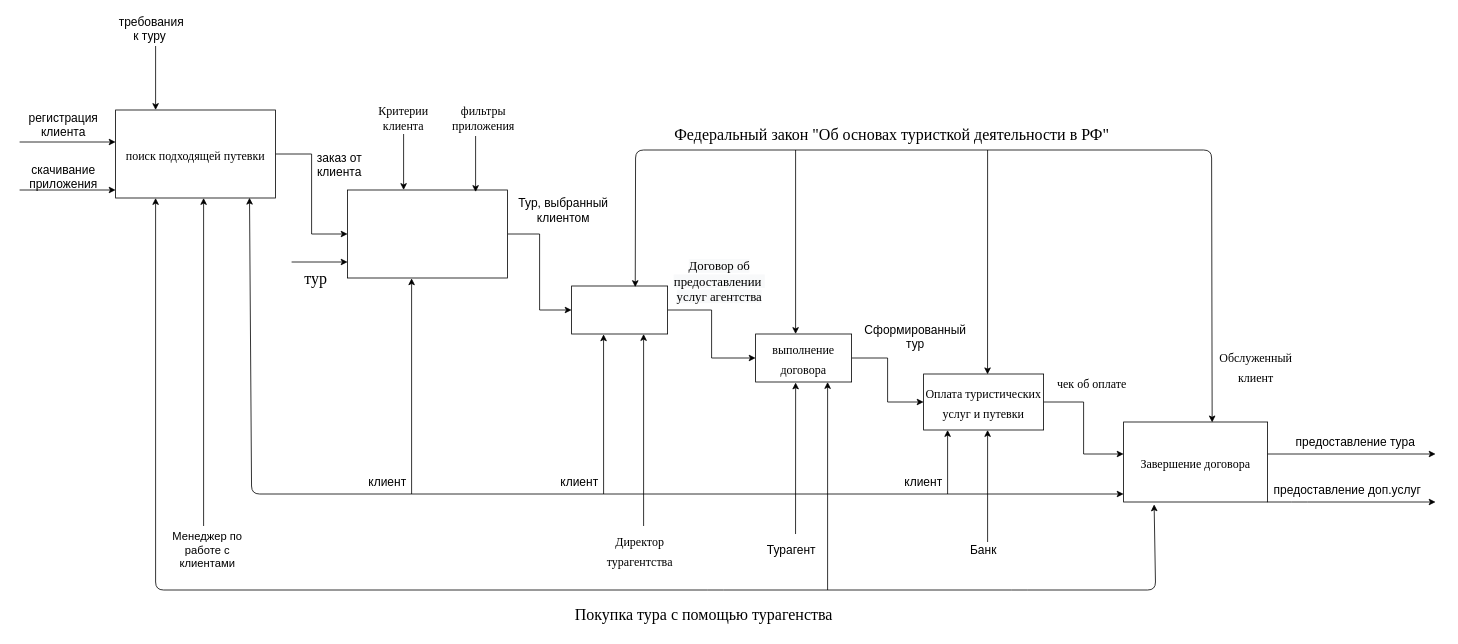
Image size: 1458x644. Some labels were removed from this diagram. Each missing label, with the centre of its shape:
Выбор путевки: point 427,233
Заключение договора: point 619,309
